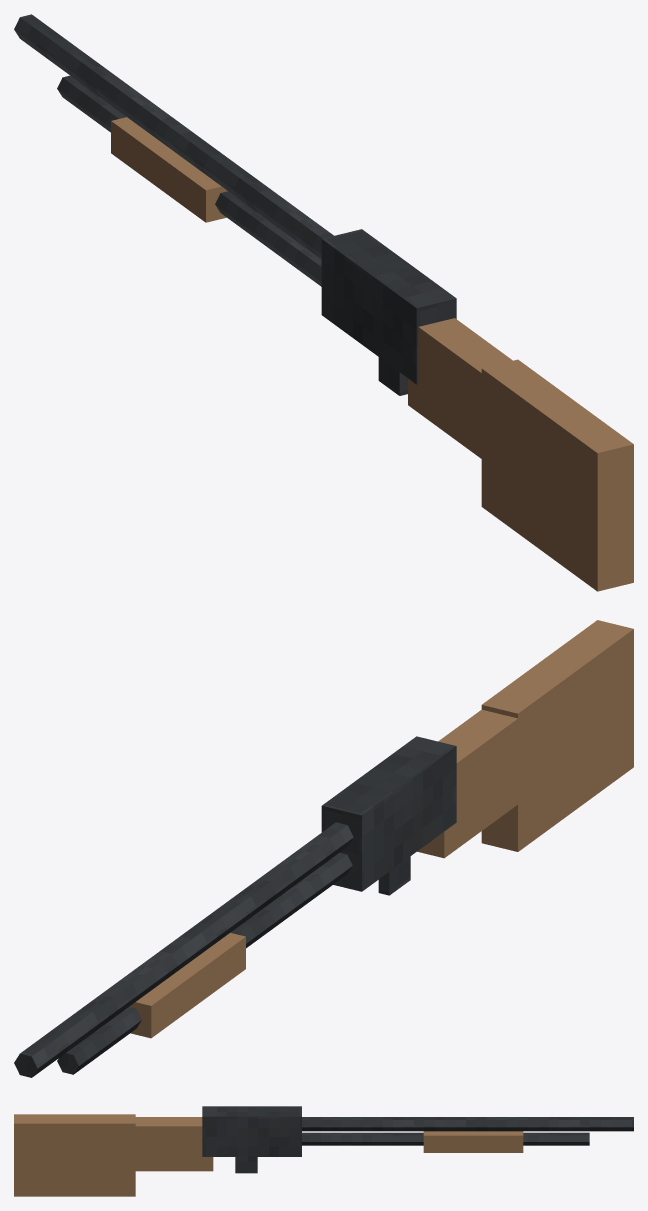
Rendered from shotgun.glb.
The picture shows the model from 3 angles, top to bottom: view 1: azimuth 30°, elevation 25°; view 2: azimuth 150°, elevation 25°; view 3: azimuth 270°, elevation 25°; orthographic projection. The views are drawn at different scales.
Visible parts, largest first — view 1: Gun_shotgun; view 2: Gun_shotgun; view 3: Gun_shotgun.
Boxes of the visible parts, x1,y1,x2,y2 form: Gun_shotgun: [14, 14, 633, 591]; Gun_shotgun: [14, 620, 633, 1077]; Gun_shotgun: [14, 1106, 633, 1196].
Bounding box in the file's own units: 0.044 × 0.16 × 1.12.
Materials: 2 (1 with a texture image).
